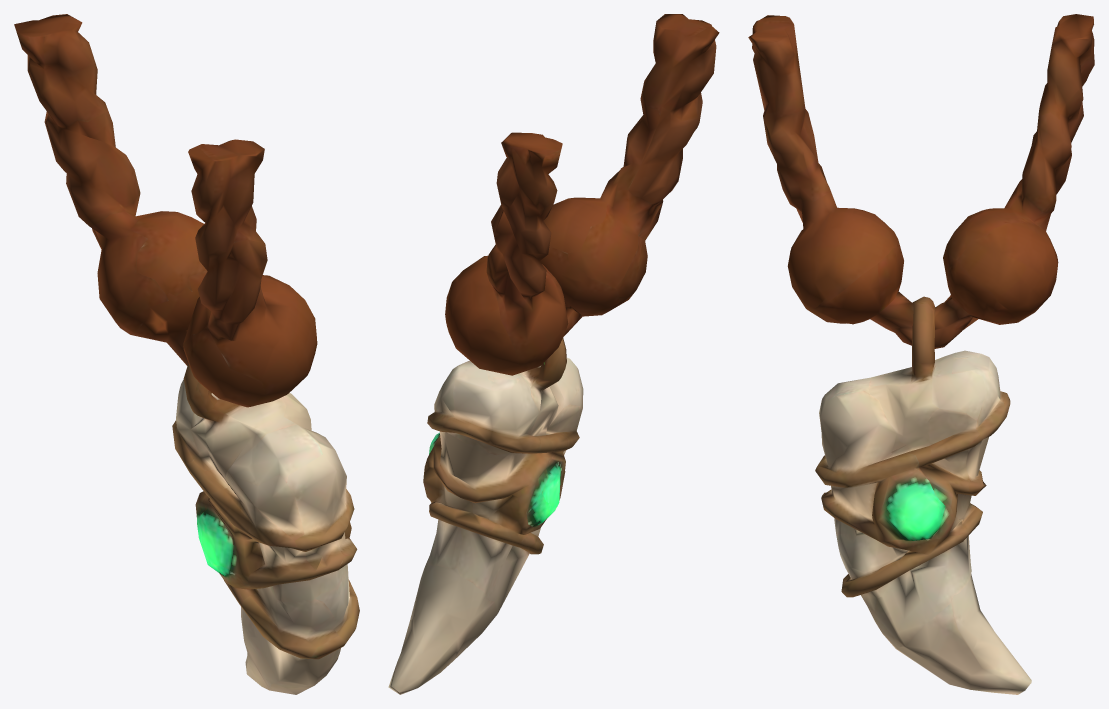
The model's file is uq_amu_trapper-BVUCMH18.glb.
The picture shows the model from 3 angles, left to right: view 1: azimuth 30°, elevation 25°; view 2: azimuth 150°, elevation 25°; view 3: azimuth 270°, elevation 25°; orthographic projection. The views are drawn at different scales.
Visible parts, largest first — view 1: tripo_node_4f577fa7-40e8-4153-bf4a-fa38017e862e; view 2: tripo_node_4f577fa7-40e8-4153-bf4a-fa38017e862e; view 3: tripo_node_4f577fa7-40e8-4153-bf4a-fa38017e862e.
Boxes of the visible parts, <box> form: tripo_node_4f577fa7-40e8-4153-bf4a-fa38017e862e: <box>14,14,359,694</box>; tripo_node_4f577fa7-40e8-4153-bf4a-fa38017e862e: <box>388,14,719,694</box>; tripo_node_4f577fa7-40e8-4153-bf4a-fa38017e862e: <box>748,14,1094,694</box>.
Bounding box in the file's own units: 0.3619 × 1 × 0.5309.
1 material, 1 textured.
